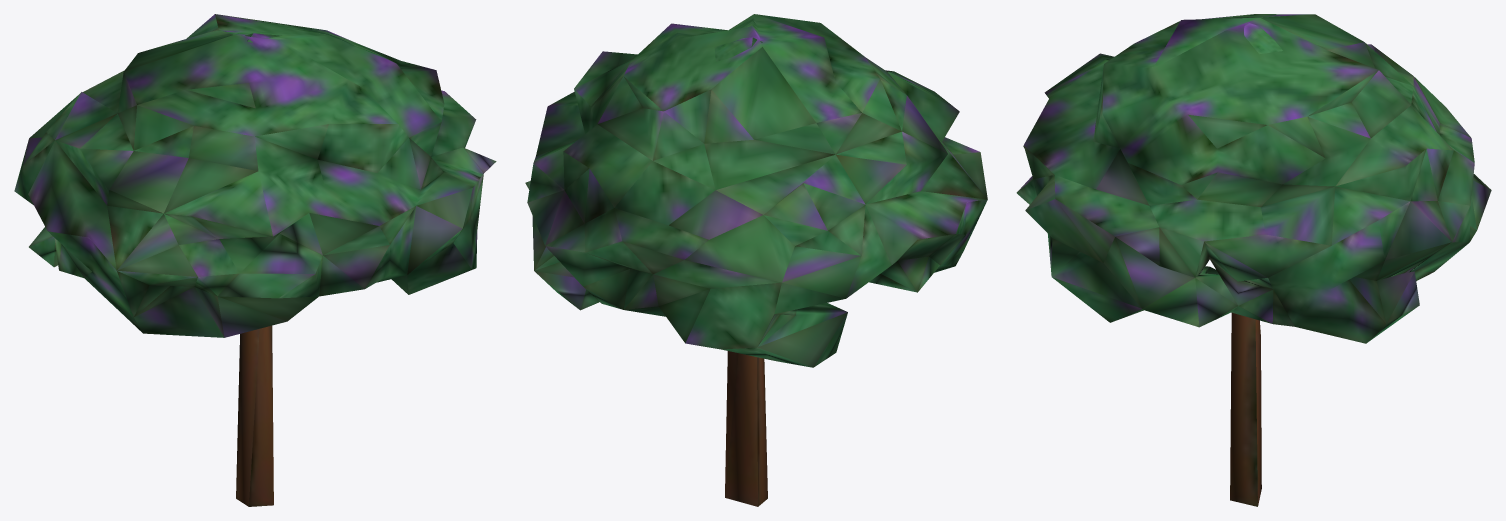
Rendered from tree_round_a_far.glb.
The picture shows the model from 3 angles, left to right: view 1: azimuth 30°, elevation 25°; view 2: azimuth 150°, elevation 25°; view 3: azimuth 270°, elevation 25°; orthographic projection.
Parts seen in each view (by area): view 1: body; view 2: body; view 3: body.
Part boxes in pixels (x1=…): body: x1=14, y1=14, x2=496, y2=506; body: x1=525, y1=14, x2=987, y2=506; body: x1=1016, y1=14, x2=1491, y2=506.
Bounding box in the file's own units: 5.24 × 5.53 × 5.04.
Materials: 2 (2 with a texture image).
